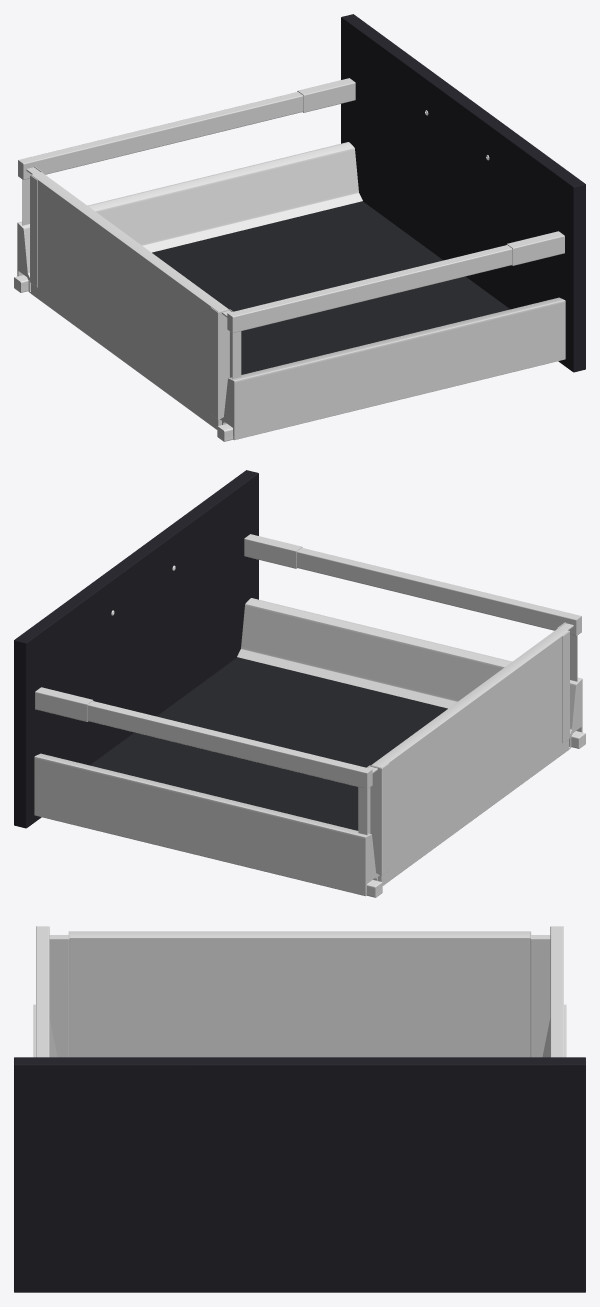
Rendered from Kitchen09Drawer02.fbx.
3 views of the same model, one above another, from view 1: azimuth 30°, elevation 25°; view 2: azimuth 150°, elevation 25°; view 3: azimuth 270°, elevation 25° (orthographic). The views are drawn at different scales.
Parts seen in each view (by area): view 1: Kitchen09Drawer02; view 2: Kitchen09Drawer02; view 3: Kitchen09Drawer02.
Part boxes in pixels (left/top/right/bottom): Kitchen09Drawer02: left=14, top=14, right=585, bottom=441; Kitchen09Drawer02: left=14, top=470, right=585, bottom=897; Kitchen09Drawer02: left=14, top=926, right=585, bottom=1292.
Bounding box in the file's own units: 51.99 × 59.69 × 26.3.
Materials: 4 (1 with a texture image).
